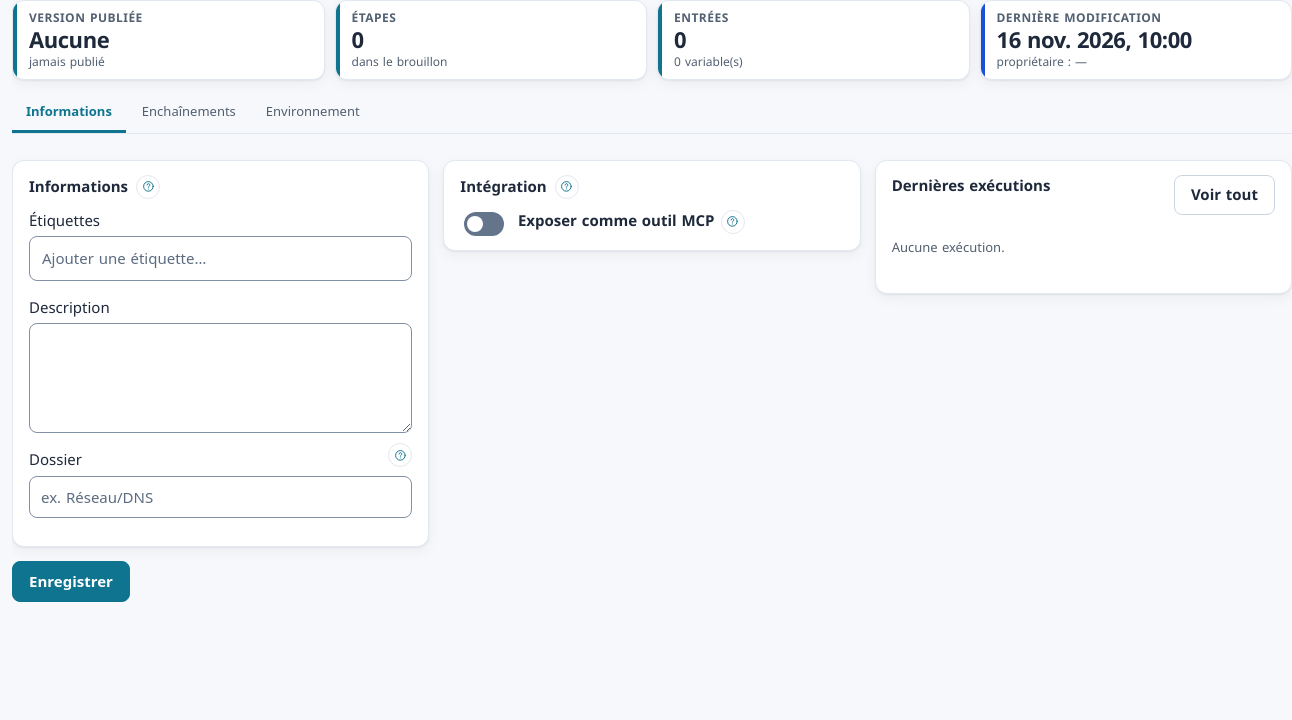
Test case: Réglages d'un workflow : runner imposé › un runner imposé qui n'est plus utilisable par l'espace est montré tel quel, avec une alerte
The image size is (1292, 720).
Click the tab "Environnement": click(313, 114) left=252, top=94, right=374, bottom=133
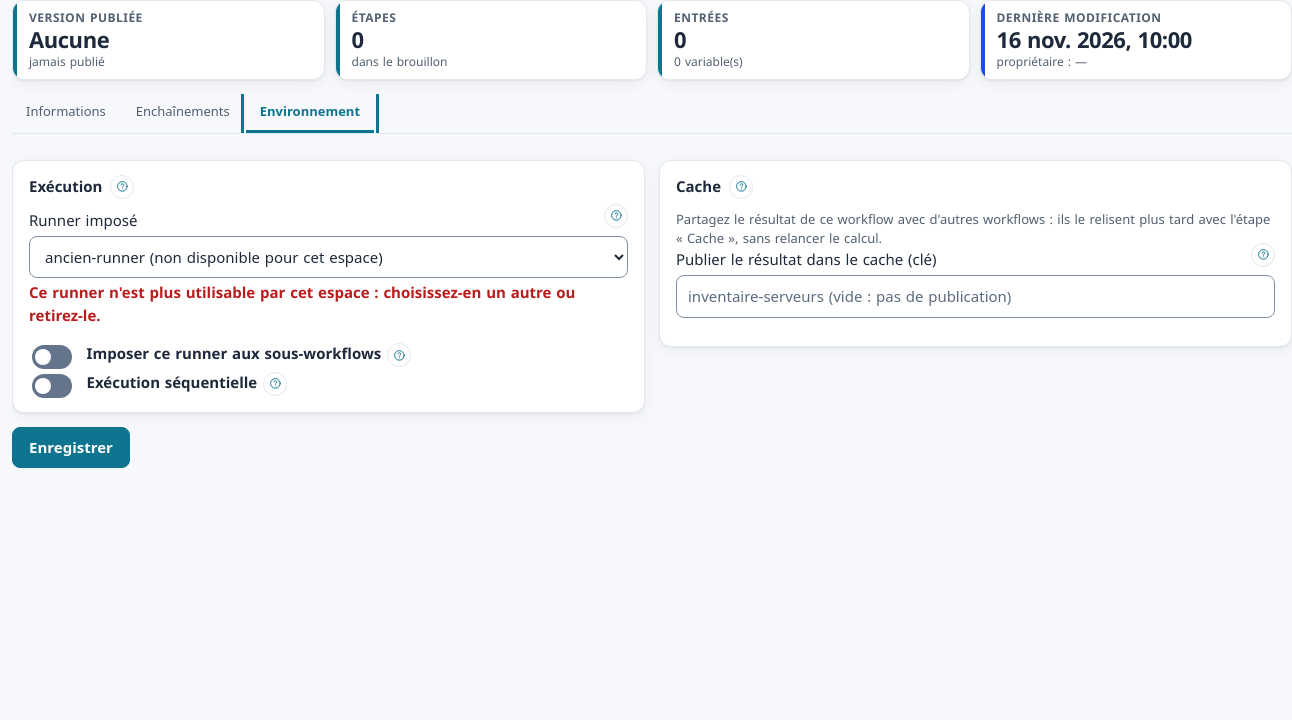
Now the dropdown labelled "Runner imposé" shows "ancien-runner (non disponible pour cet espace)", box left=29, top=236, right=628, bottom=278
Now the message shows "n'est plus utilisable par cet espace", box left=29, top=283, right=575, bottom=326
